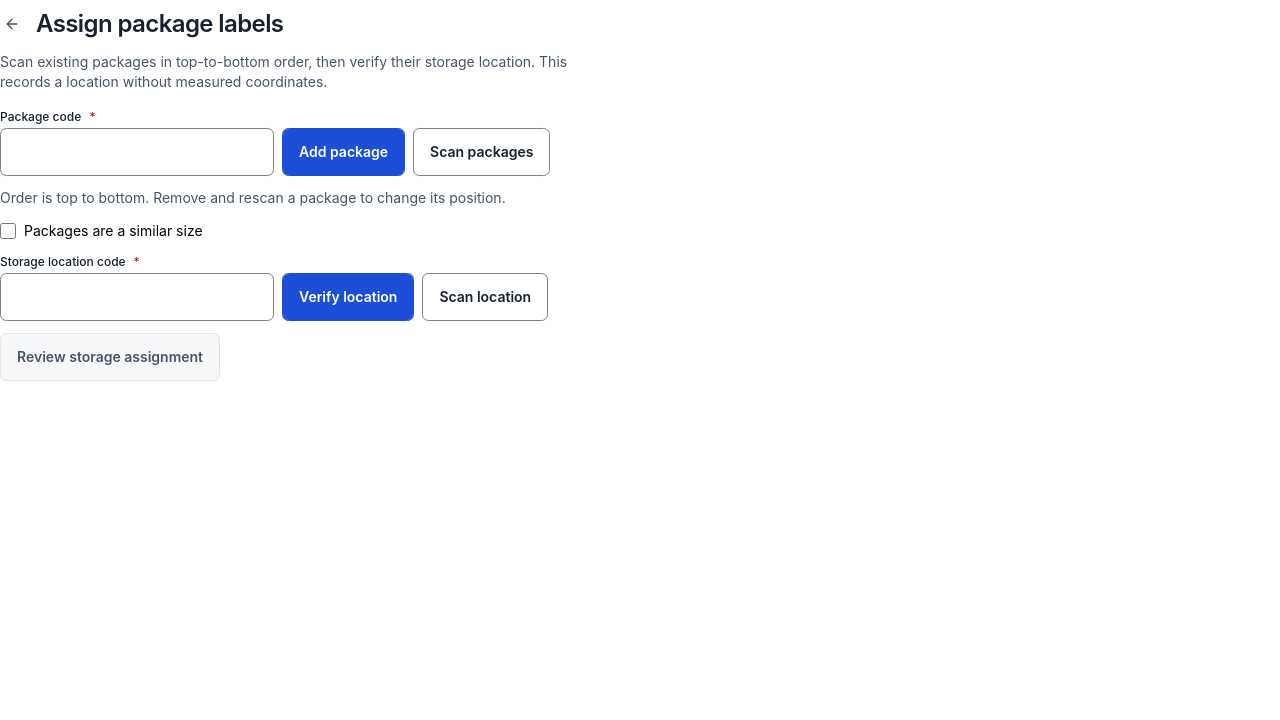
Scenario: protects a pending package write and retains the draft when leaving is canceled
Type "P-A" into the field labelled "Package code".
click(137, 152); type("P-A")  # box [0,128,274,176]
Click the button "Add package".
click(344, 152)  # box [282,128,405,176]
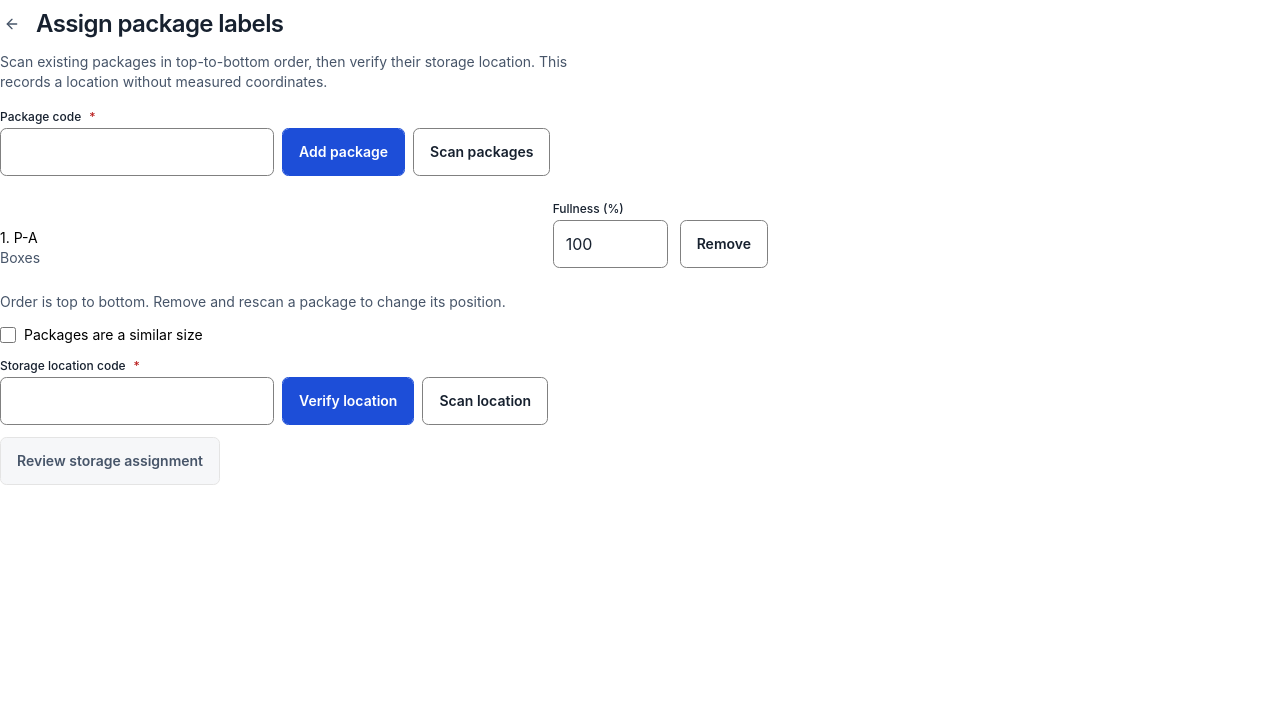
Result: the number field labelled "Fullness (%)" holds "100" at [553,220,668,268]
Type "ZONE-A" into the field labelled "Storage location code".
click(137, 401); type("ZONE-A")  # box [0,377,274,425]
Click the button "Verify location".
click(348, 401)  # box [282,377,414,425]
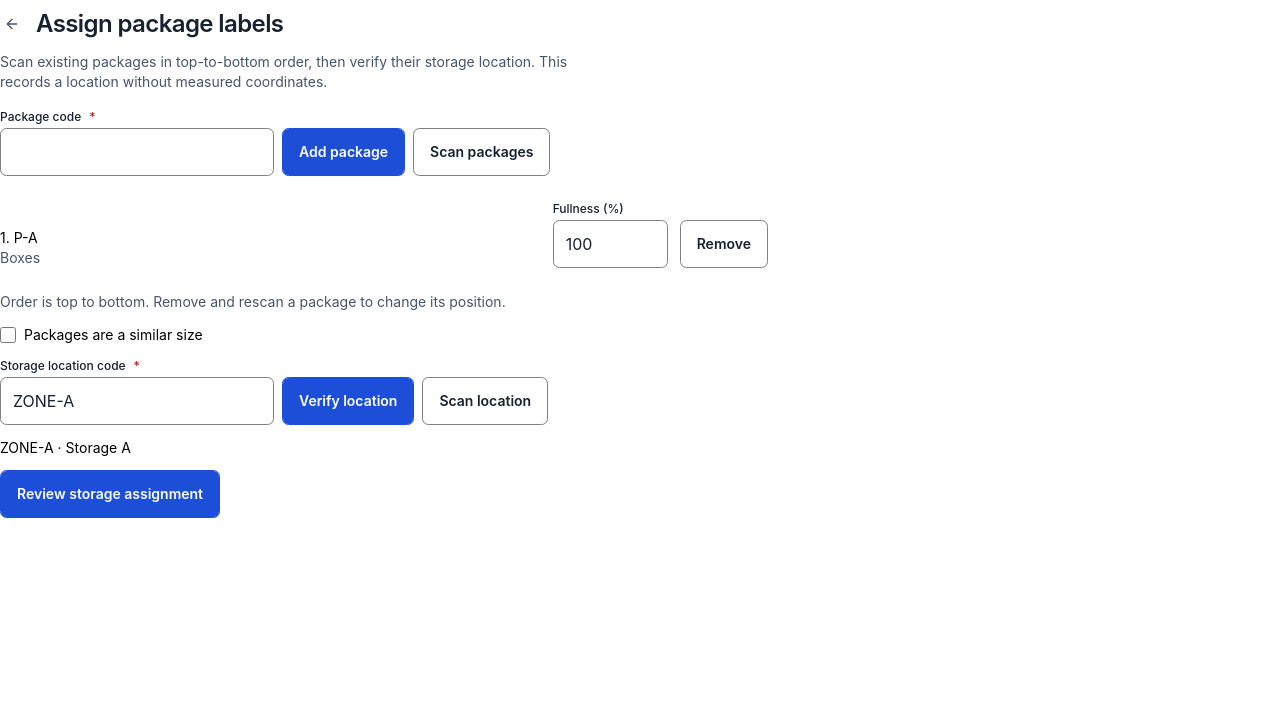
Result: the button "Review storage assignment" is enabled
Click the button "Review storage assignment".
click(110, 494)  # box [0,470,220,518]
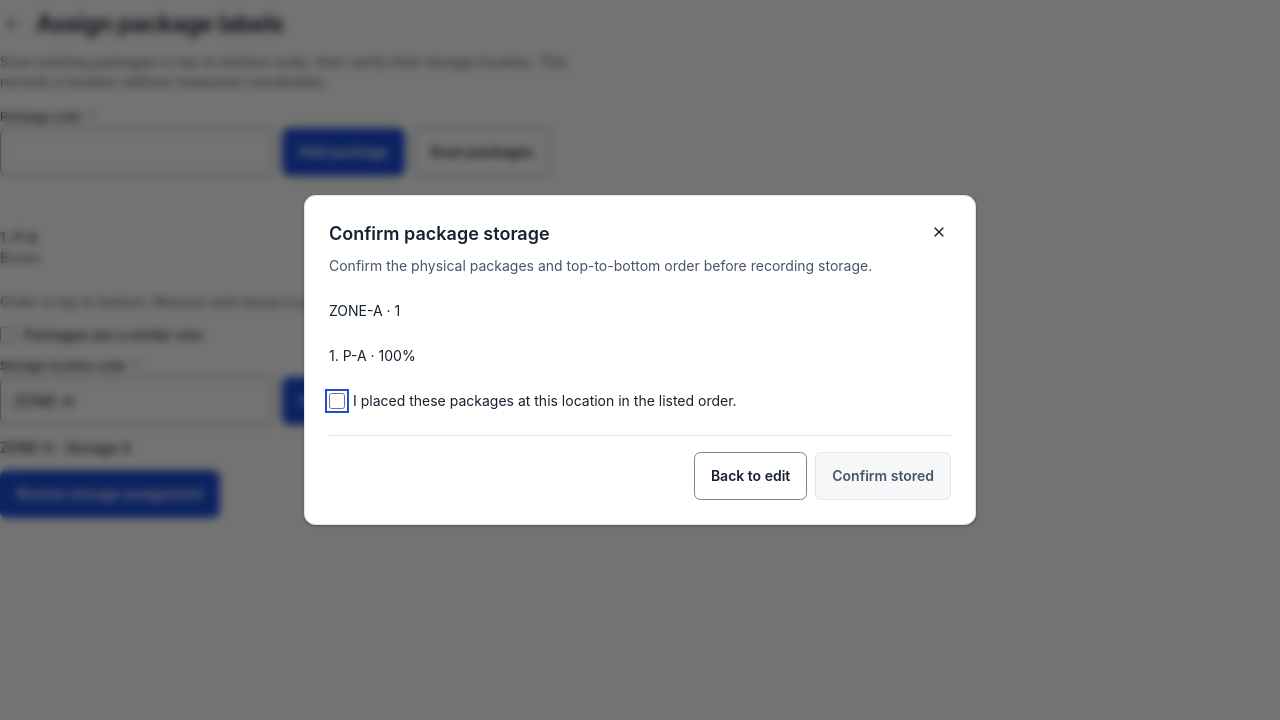
Result: the dialog "Confirm package storage" is shown at [304,195,976,525]
Click the checkbox labelled "I placed these packages".
click(337, 400)  # box [329,392,345,408]
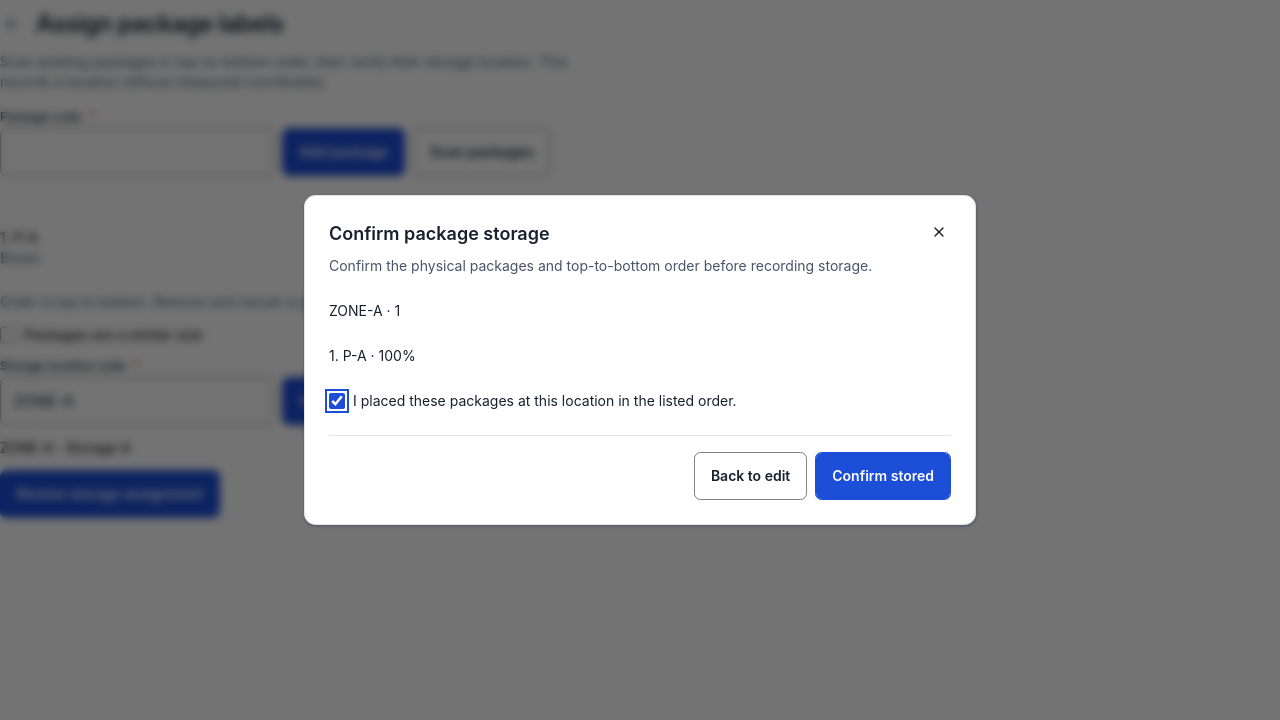
Click the button "Confirm stored".
click(883, 476)  # box [815,452,951,500]
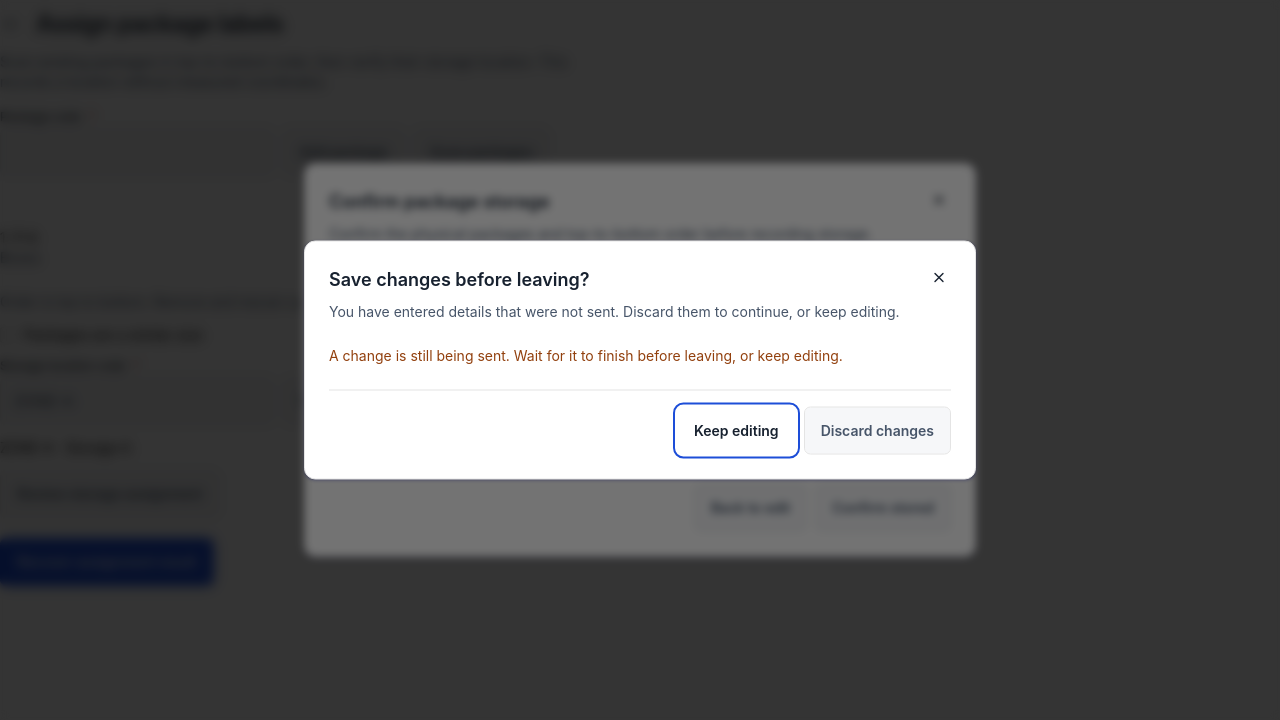
Result: the message with test id "navigation-guard-pending" is shown at [329,346,843,364]
Click the button "Keep editing".
click(736, 430)  # box [677,406,796,454]
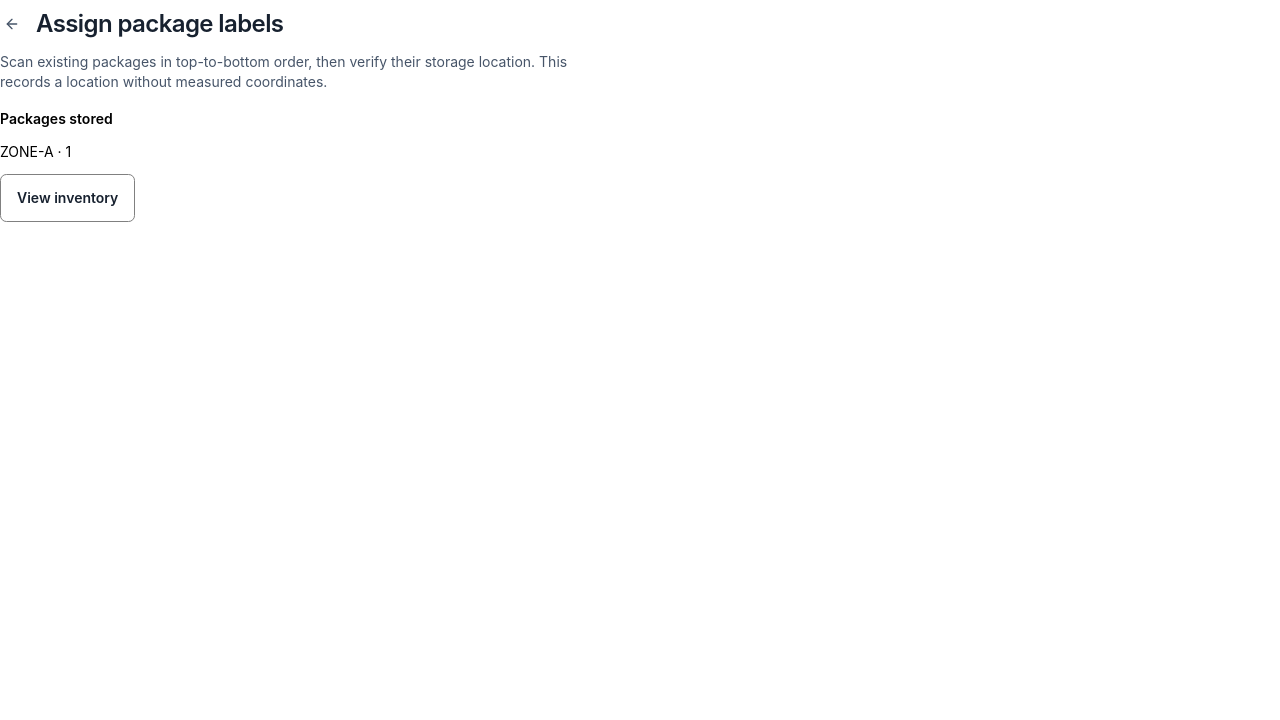
Result: the heading "Packages stored" is shown at [0,110,113,127]
